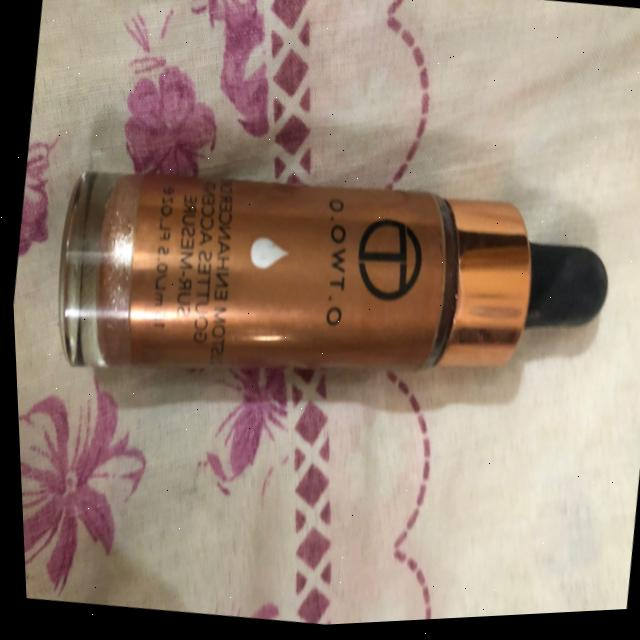serum: (7, 100, 640, 479)
